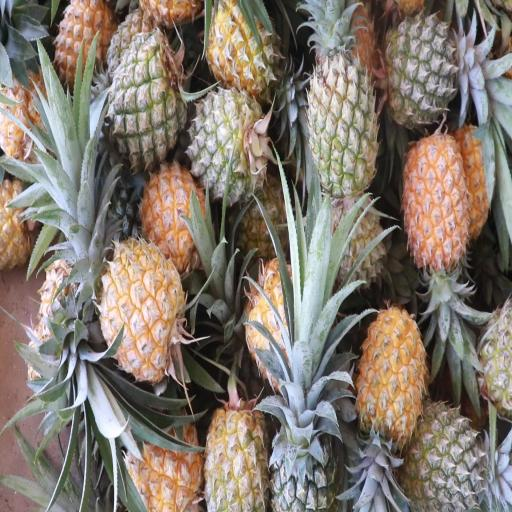Pineapple - v8 v1: (100, 235, 190, 391), (357, 296, 427, 447), (402, 132, 471, 285), (139, 168, 215, 288), (206, 4, 292, 102), (202, 404, 272, 512), (54, 0, 119, 99)
